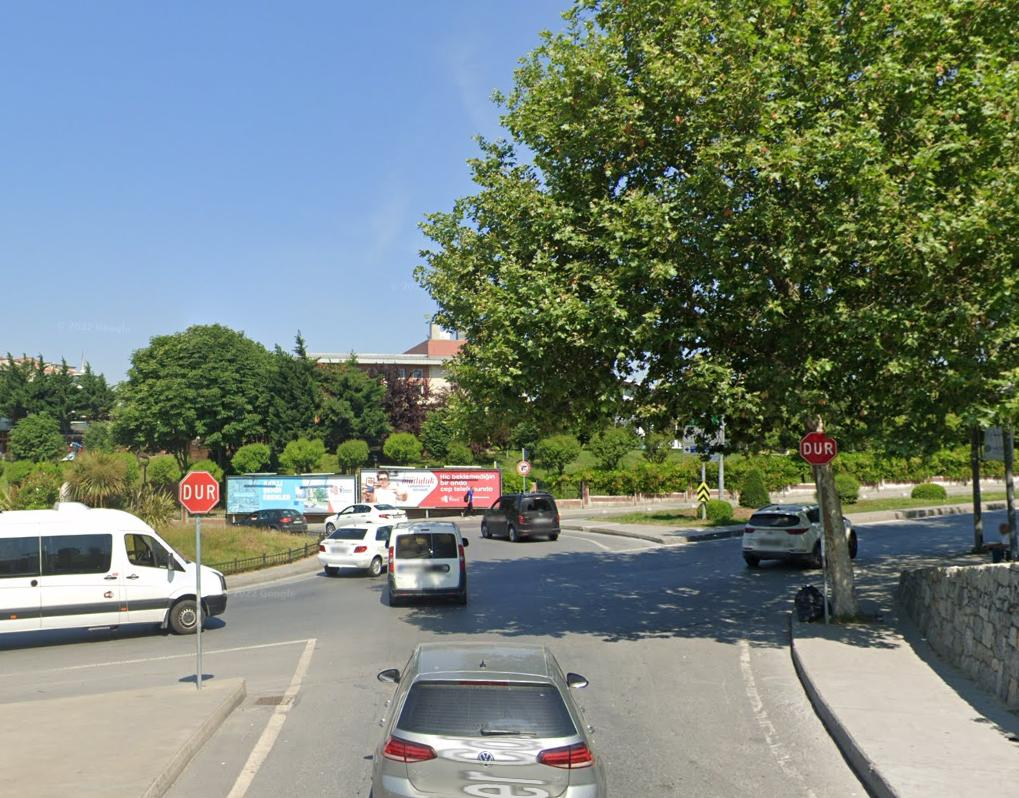rightturnsareforbidden: (516, 459, 530, 474)
stop: (179, 471, 217, 512), (798, 432, 839, 464)
